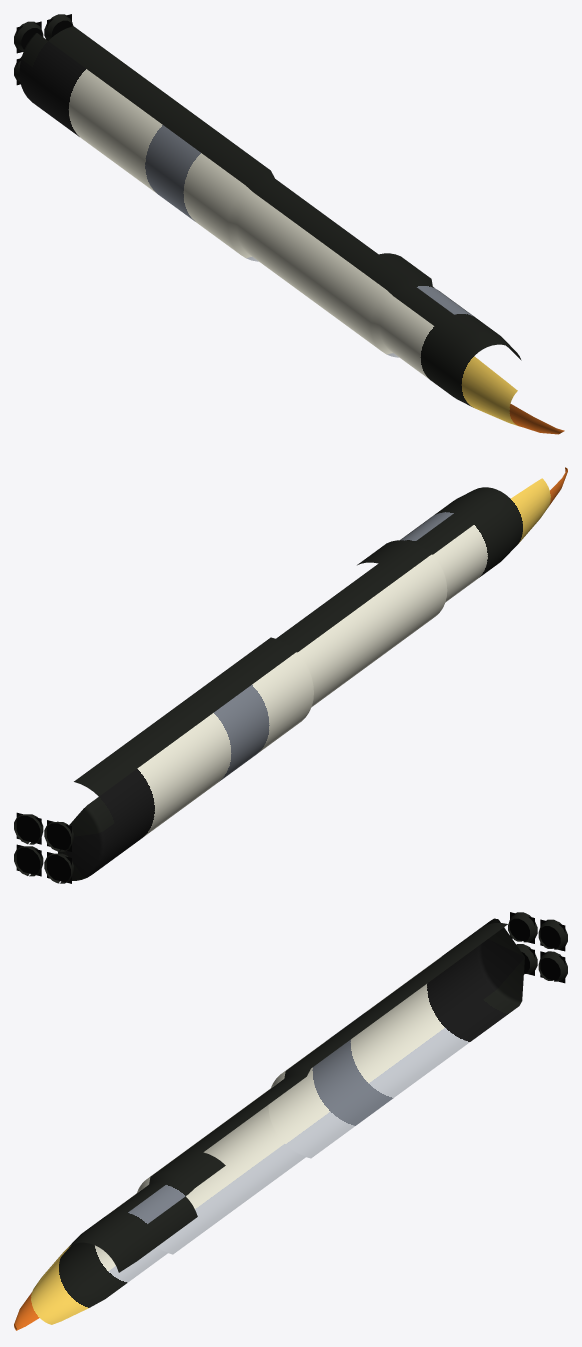
Rendered from icbm_body.obj.
3 renders of one model, top to bottom at view 1: azimuth 30°, elevation 25°; view 2: azimuth 150°, elevation 25°; view 3: azimuth 330°, elevation 25°, orthographic.
Size of the model in its own units: 1.8 by 1.8 by 18.92.
